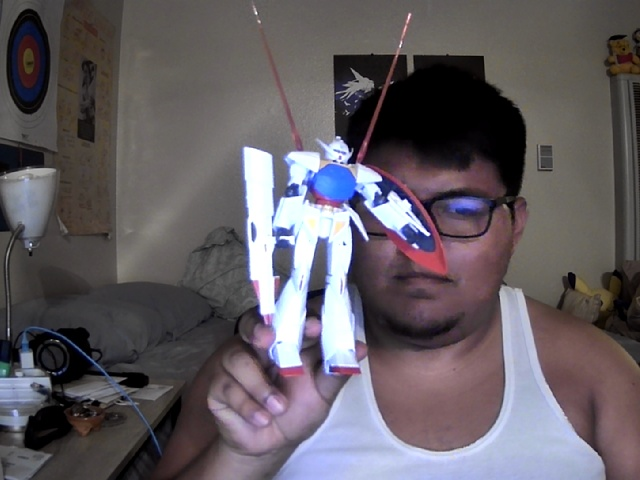Turn-A: (242, 136, 448, 378)
